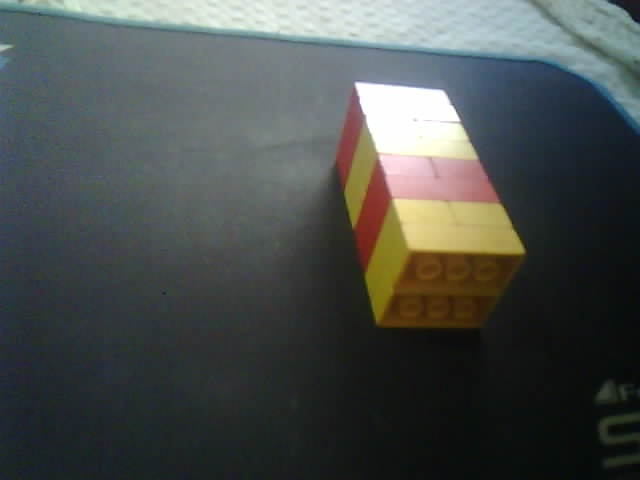lego: (331, 81, 527, 331)
